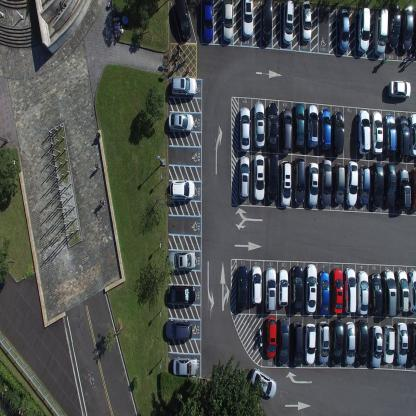car: (250, 366, 276, 398), (173, 0, 192, 41), (373, 8, 388, 56), (383, 267, 397, 318), (330, 318, 344, 366), (370, 161, 384, 209), (395, 268, 410, 312), (395, 115, 410, 159), (396, 168, 411, 212), (400, 5, 414, 52), (305, 264, 318, 314), (165, 318, 193, 341), (357, 109, 371, 154), (383, 162, 397, 207), (344, 266, 357, 314), (369, 271, 383, 315), (266, 152, 278, 203), (356, 319, 369, 366), (306, 160, 319, 207), (293, 156, 305, 206), (317, 270, 330, 316), (343, 320, 356, 366), (357, 7, 370, 53), (345, 160, 358, 206), (167, 111, 194, 133), (267, 102, 279, 151), (320, 158, 332, 207), (265, 315, 278, 360), (337, 7, 350, 52), (370, 110, 383, 155), (167, 285, 196, 305), (253, 154, 265, 202), (395, 321, 408, 365), (370, 324, 383, 368), (317, 320, 330, 364), (172, 356, 198, 378), (306, 103, 319, 147), (332, 161, 345, 205), (168, 250, 195, 271), (170, 75, 197, 96), (331, 267, 343, 314), (357, 269, 369, 316), (388, 3, 400, 50), (382, 114, 396, 154), (319, 108, 332, 151), (236, 264, 248, 310), (238, 106, 250, 152), (278, 316, 289, 366), (170, 178, 195, 200), (261, 0, 273, 45), (282, 0, 294, 45), (332, 110, 344, 155), (238, 155, 250, 200), (294, 101, 305, 150), (358, 164, 371, 205), (292, 264, 303, 312), (304, 322, 316, 366), (292, 320, 303, 368), (254, 101, 265, 149), (280, 159, 291, 207), (382, 324, 395, 364), (265, 266, 276, 313), (281, 107, 292, 154), (250, 265, 262, 305), (387, 78, 411, 98), (301, 0, 312, 43), (222, 0, 233, 42), (278, 268, 289, 308), (203, 0, 213, 43), (242, 0, 253, 38), (408, 321, 416, 367), (408, 112, 416, 158), (408, 168, 416, 212), (408, 268, 415, 314), (412, 11, 416, 58)
